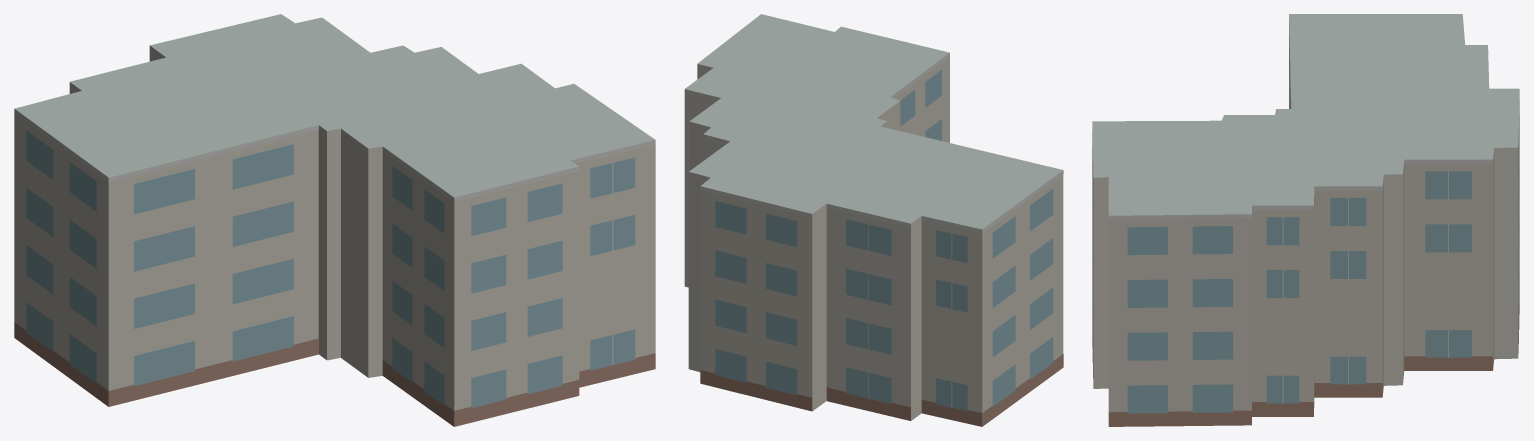
The model's file is survey-upis-32544893.glb.
The picture shows the model from 3 angles, left to right: view 1: azimuth 30°, elevation 25°; view 2: azimuth 150°, elevation 25°; view 3: azimuth 270°, elevation 25°; orthographic projection. The views are drawn at different scales.
Parts seen in each view (by area): view 1: survey-upis-32544893.tmp; view 2: survey-upis-32544893.tmp; view 3: survey-upis-32544893.tmp.
Part boxes in pixels (x1,y1,x2,y2): survey-upis-32544893.tmp: [14, 14, 655, 426]; survey-upis-32544893.tmp: [684, 14, 1063, 426]; survey-upis-32544893.tmp: [1092, 14, 1519, 426].
Bounding box in the file's own units: 25.01 × 12.2 × 22.39.
